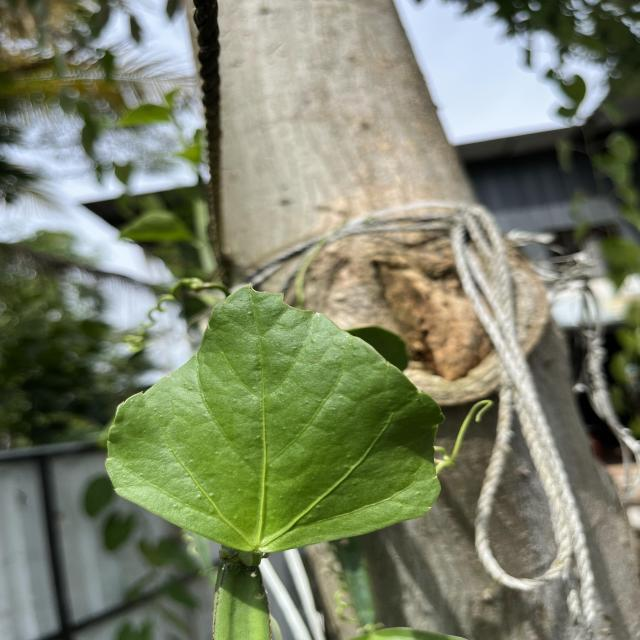Cissus quadrangularis: (100, 278, 448, 560)
